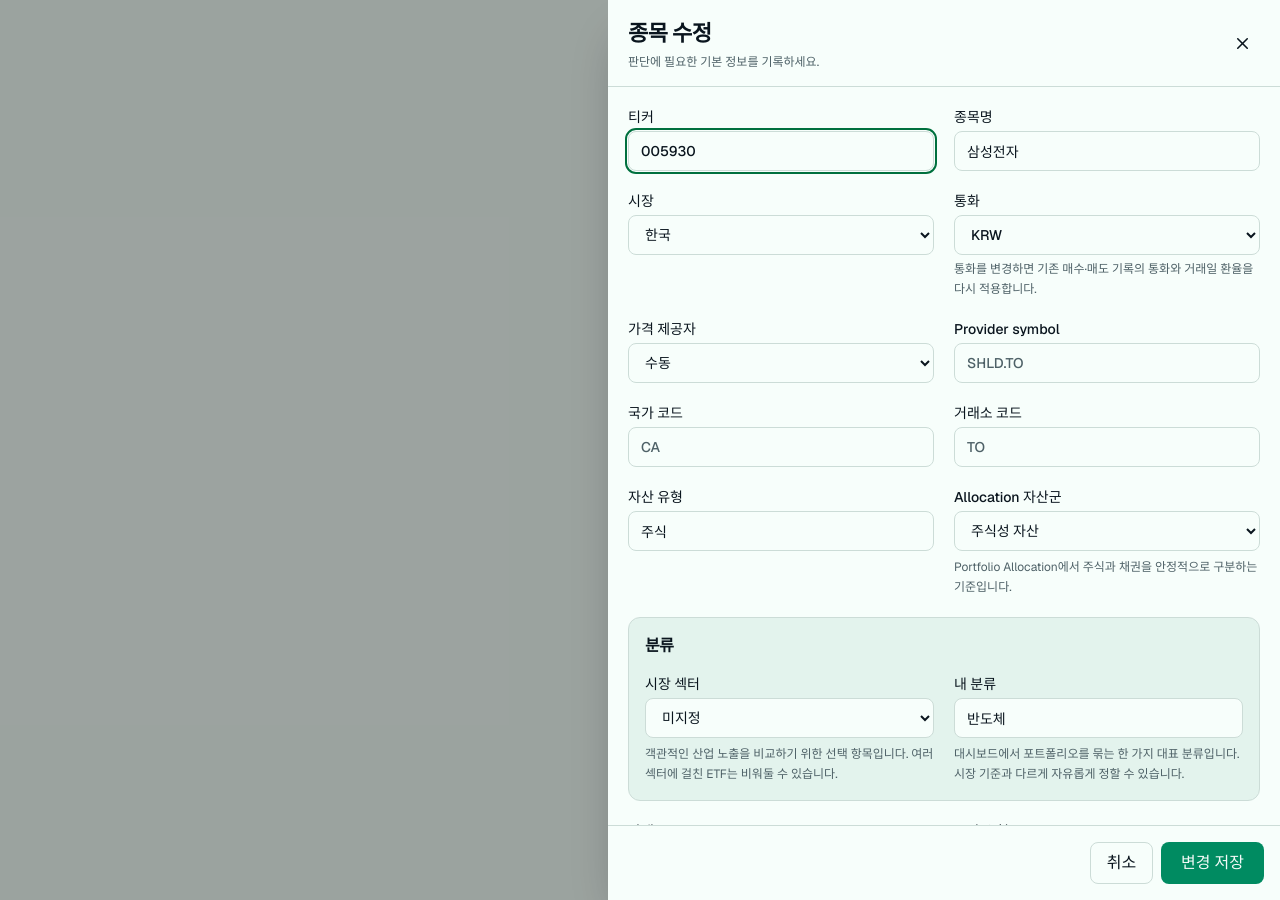
Test case: StockForm › 기존 매매에 여러 통화가 섞여 있으면 자동 변경을 차단한다
Select "USD" in the dropdown labelled "통화". click: (1107, 235)
box: [954,215,1260,255]
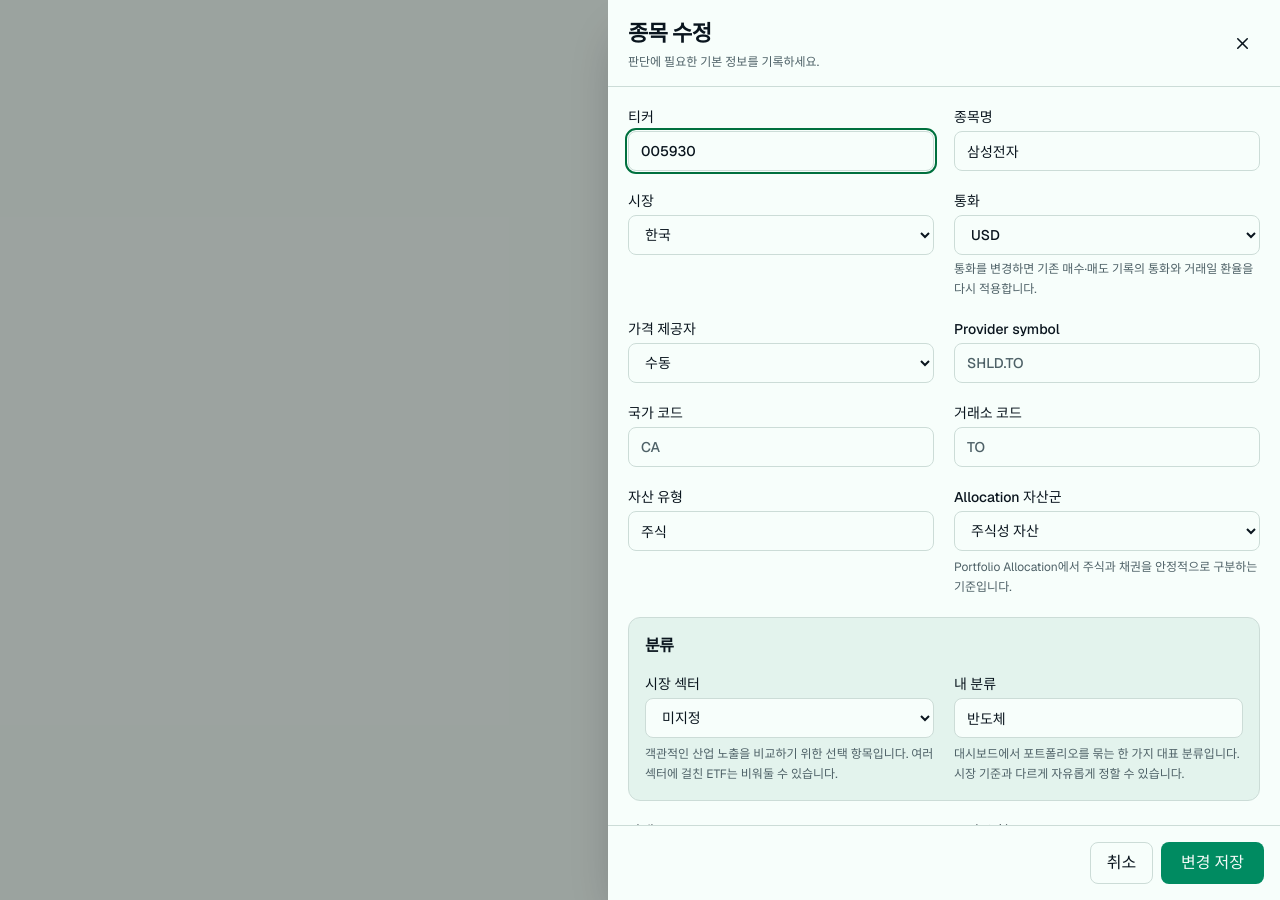
Click the button "변경 저장". click: (1213, 863)
box: [1161,842,1264,884]
(page scrolled)
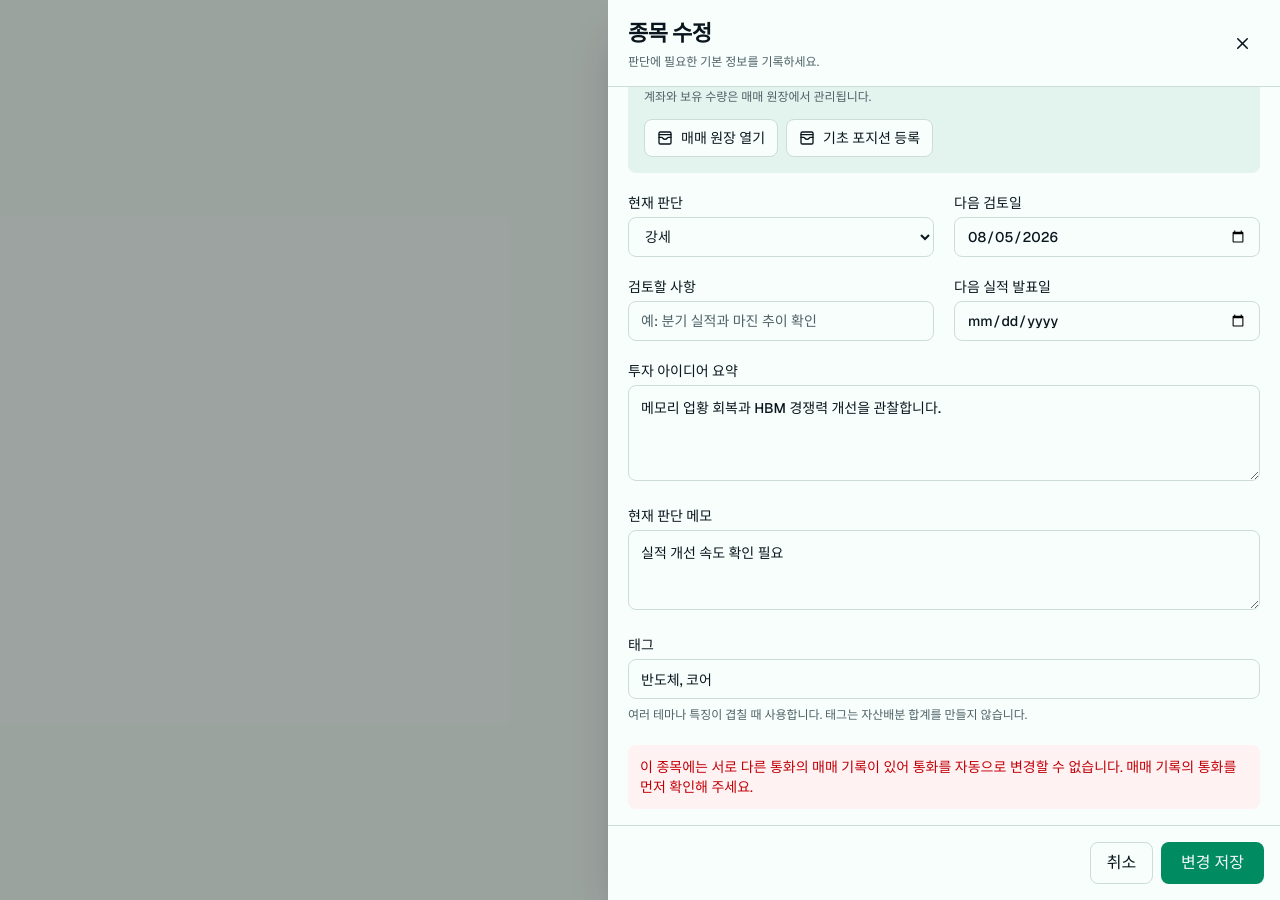
Now the message shows "서로 다른 통화의 매매 기록", box [640,758,1236,796]
